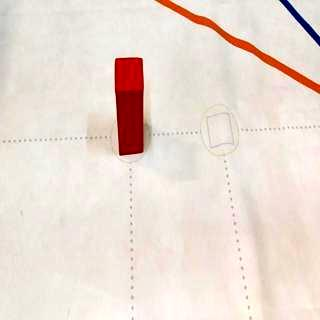redbox: (114, 56, 146, 158)
